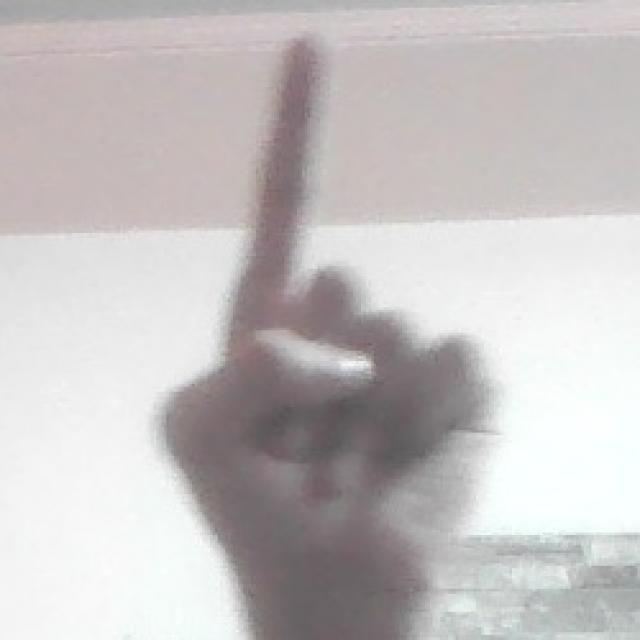Numeric-1: (153, 37, 498, 576)
